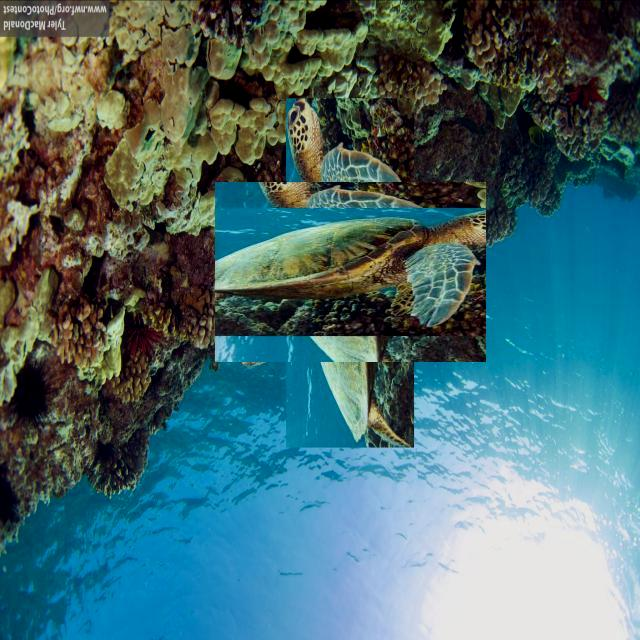Sea turtle: (237, 160, 463, 386)
